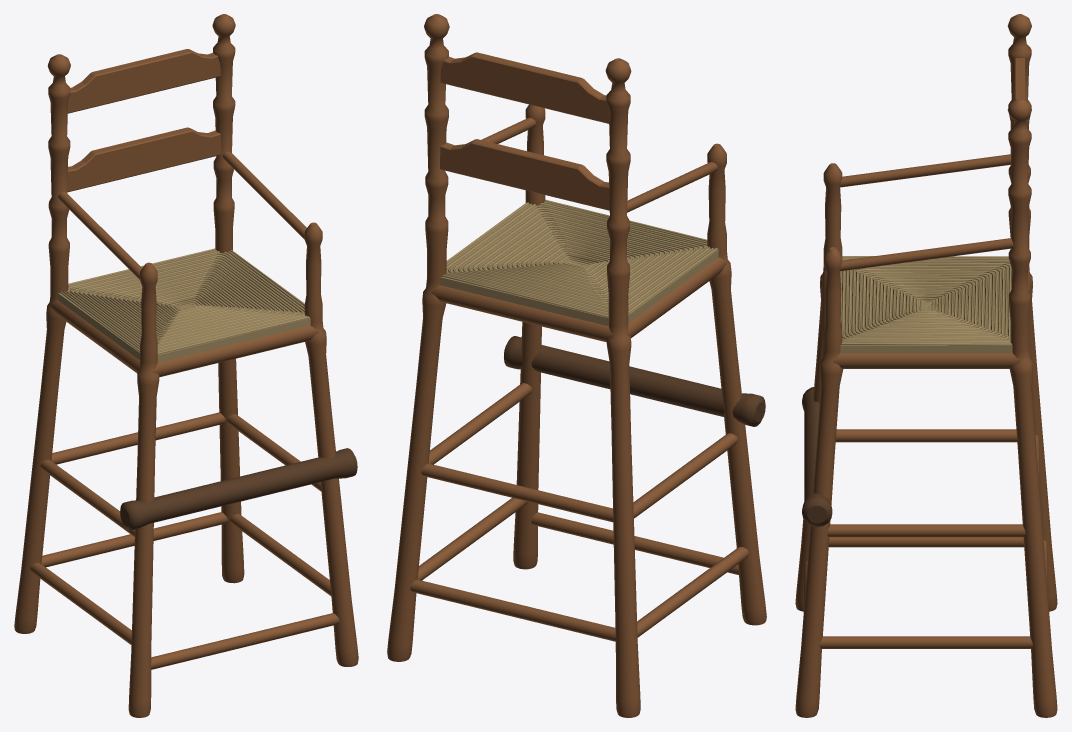
Rendered from A-NEW-20261026-WOOD-HIGH-CHAIR-001_LOD2_R2.fbx.
3 views of the same model, side by side, from view 1: azimuth 30°, elevation 25°; view 2: azimuth 150°, elevation 25°; view 3: azimuth 270°, elevation 25° (orthographic). The views are drawn at different scales.
Visible parts, largest first — view 1: rear left turned post, front left turned post, front right turned post, rear right turned post, projecting dark footrest, scalloped back board 0, scalloped back board 1, closed rush seat substrate, front seat rail, low front stretcher, rear stretcher 0.13, rear stretcher 0.335 (+23 smaller); view 2: rear left turned post, rear right turned post, front left turned post, scalloped back board 0, projecting dark footrest, scalloped back board 1, front right turned post, closed rush seat substrate, rear seat rail, rear stretcher 0.13, rear stretcher 0.335, low front stretcher (+22 smaller); view 3: rear right turned post, front right turned post, closed rush seat substrate, rear left turned post, right seat rail, front left turned post, right side stretcher 0.335, right side stretcher 0.13, left side stretcher 0.335, projecting dark footrest, left side stretcher 0.13, right arm rail (+22 smaller).
Boxes of the visible parts, box(x1,y1,x2,y2) form: rear left turned post: box(14, 54, 70, 633); front left turned post: box(128, 262, 159, 717); front right turned post: box(304, 222, 358, 666); rear right turned post: box(212, 14, 244, 583); projecting dark footrest: box(120, 448, 357, 530); scalloped back board 0: box(67, 127, 221, 192); scalloped back board 1: box(67, 49, 220, 113); closed rush seat substrate: box(58, 252, 310, 362); front seat rail: box(153, 325, 318, 376); low front stretcher: box(151, 613, 339, 669); rear stretcher 0.13: box(41, 512, 227, 567); rear stretcher 0.335: box(51, 412, 225, 464); rear left turned post: box(605, 58, 640, 717); rear right turned post: box(387, 14, 449, 661); front left turned post: box(707, 143, 766, 625); scalloped back board 0: box(440, 139, 609, 210); projecting dark footrest: box(504, 336, 765, 426); scalloped back board 1: box(440, 52, 609, 123); front right turned post: box(513, 104, 545, 569); closed rush seat substrate: box(440, 202, 718, 326); rear seat rail: box(431, 285, 613, 342); rear stretcher 0.13: box(410, 579, 615, 641); rear stretcher 0.335: box(421, 463, 613, 522); low front stretcher: box(531, 512, 738, 574); rear right turned post: box(1007, 98, 1057, 717); front right turned post: box(795, 247, 843, 717); closed rush seat substrate: box(840, 263, 1012, 353); rear left turned post: box(1007, 14, 1057, 611); right seat rail: box(833, 353, 1019, 368); front left turned post: box(795, 163, 842, 611); right side stretcher 0.335: box(827, 524, 1025, 537); right side stretcher 0.13: box(820, 636, 1032, 648); left side stretcher 0.335: box(835, 429, 1017, 442); projecting dark footrest: box(802, 387, 832, 527); left side stretcher 0.13: box(828, 537, 1024, 547); right arm rail: box(839, 238, 1013, 271).
Bounding box in the file's own units: 47 × 114 × 44.89.
